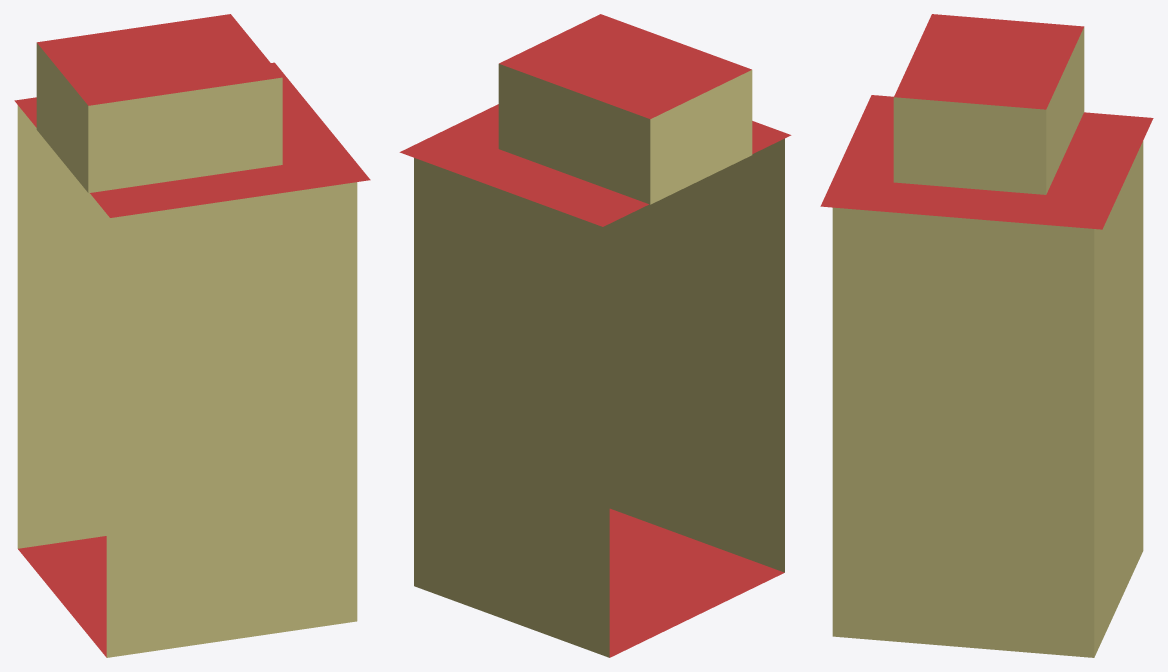
3 views of the same model, side by side, from view 1: azimuth 30°, elevation 25°; view 2: azimuth 150°, elevation 25°; view 3: azimuth 270°, elevation 25° (orthographic). The views are drawn at different scales.
Parts seen in each view (by area): view 1: group_7, group_5, group_4, group_3, group_8, group_6; view 2: group_7, group_5, group_4, group_8, group_3; view 3: group_7, group_3, group_5, group_4, group_6.
Boxes of the visible parts, x1,y1,x2,y2 form: group_7: [17, 105, 357, 657]; group_5: [36, 43, 282, 193]; group_4: [37, 14, 282, 105]; group_3: [14, 62, 370, 217]; group_8: [18, 536, 106, 657]; group_6: [31, 63, 366, 215]; group_7: [414, 138, 784, 657]; group_5: [498, 64, 752, 204]; group_4: [499, 14, 751, 119]; group_8: [609, 508, 784, 657]; group_3: [400, 104, 791, 226]; group_7: [832, 141, 1143, 657]; group_3: [820, 95, 1153, 229]; group_5: [893, 27, 1084, 194]; group_4: [894, 14, 1084, 109]; group_6: [823, 95, 1151, 229].
Bounding box in the file's own units: 7.71 × 8.06 × 13.84.
